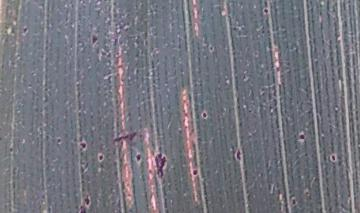tarspot: (152, 149, 171, 179), (111, 129, 145, 145), (88, 29, 101, 50), (75, 136, 89, 154), (233, 145, 244, 165), (82, 192, 94, 210), (19, 22, 31, 39), (134, 147, 144, 167), (189, 166, 204, 179), (53, 134, 66, 148), (288, 194, 301, 208), (328, 151, 340, 165), (297, 128, 306, 146), (199, 108, 211, 121), (76, 202, 90, 213), (261, 5, 272, 18), (96, 150, 105, 165), (6, 144, 16, 155), (206, 43, 216, 54), (303, 187, 312, 198)
